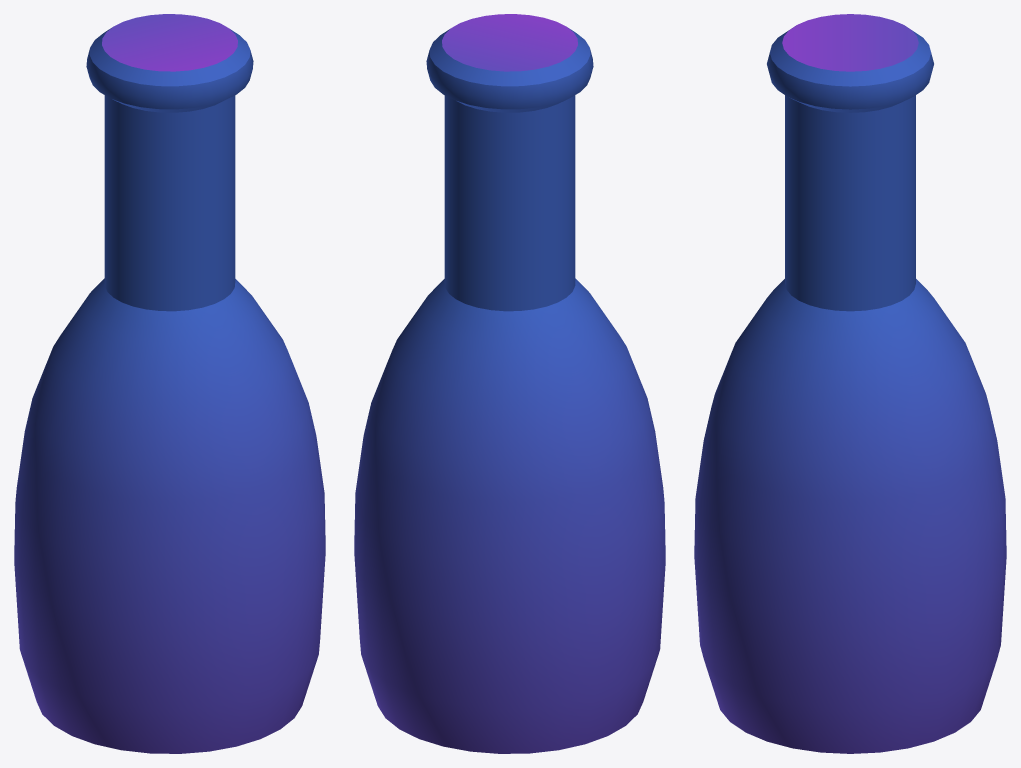
Rendered from Alcohol Bottle.fbx.
3 views of the same model, side by side, from view 1: azimuth 30°, elevation 25°; view 2: azimuth 150°, elevation 25°; view 3: azimuth 270°, elevation 25° (orthographic).
Parts seen in each view (by area): view 1: Alcohol Bottle; view 2: Alcohol Bottle; view 3: Alcohol Bottle.
Part boxes in pixels (left/top/right/bottom): Alcohol Bottle: left=14, top=14, right=325, bottom=753; Alcohol Bottle: left=354, top=14, right=665, bottom=753; Alcohol Bottle: left=694, top=14, right=1006, bottom=753.
Size of the model in its own units: 0.0323 by 0.0746 by 0.0323.
